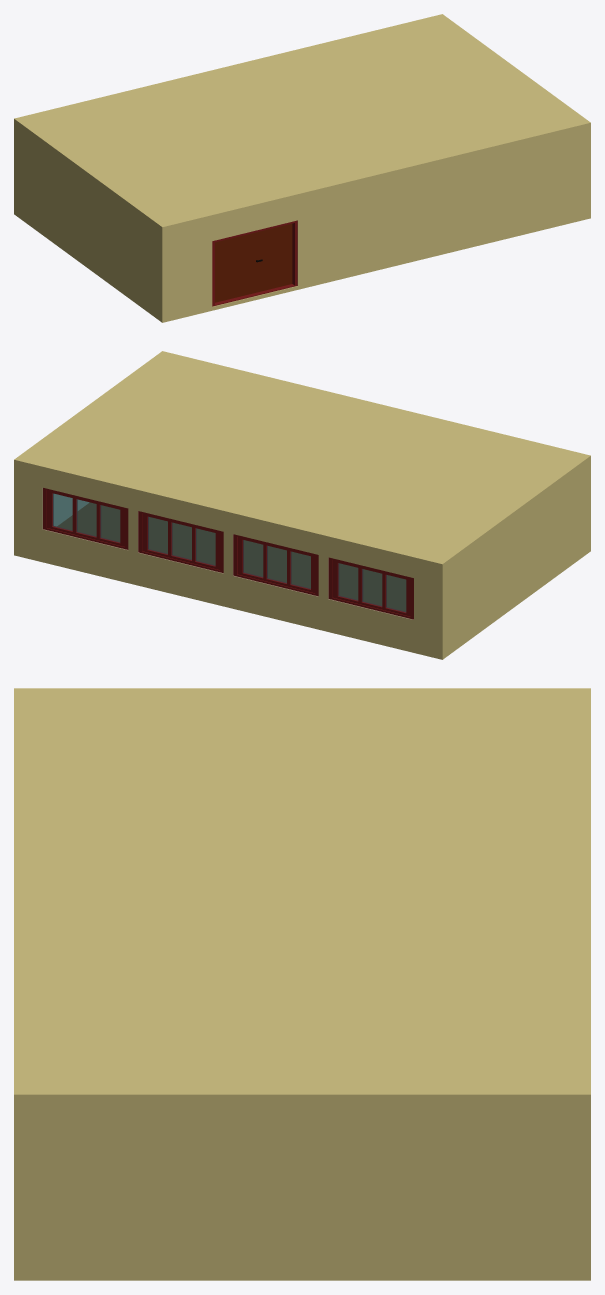
The model's file is Room.fbx.
The picture shows the model from 3 angles, top to bottom: view 1: azimuth 30°, elevation 25°; view 2: azimuth 150°, elevation 25°; view 3: azimuth 270°, elevation 25°; orthographic projection. The views are drawn at different scales.
Visible parts, largest first — view 1: Room; view 2: Room; view 3: Room.
Boxes of the visible parts, x1,y1,x2,y2 form: Room: [14, 14, 590, 322]; Room: [14, 351, 590, 659]; Room: [14, 688, 590, 1280].
Size of the model in its own units: 3000 by 640 by 1800.
